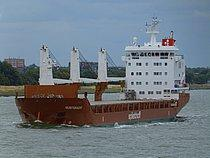Ship: (14, 16, 195, 130)
